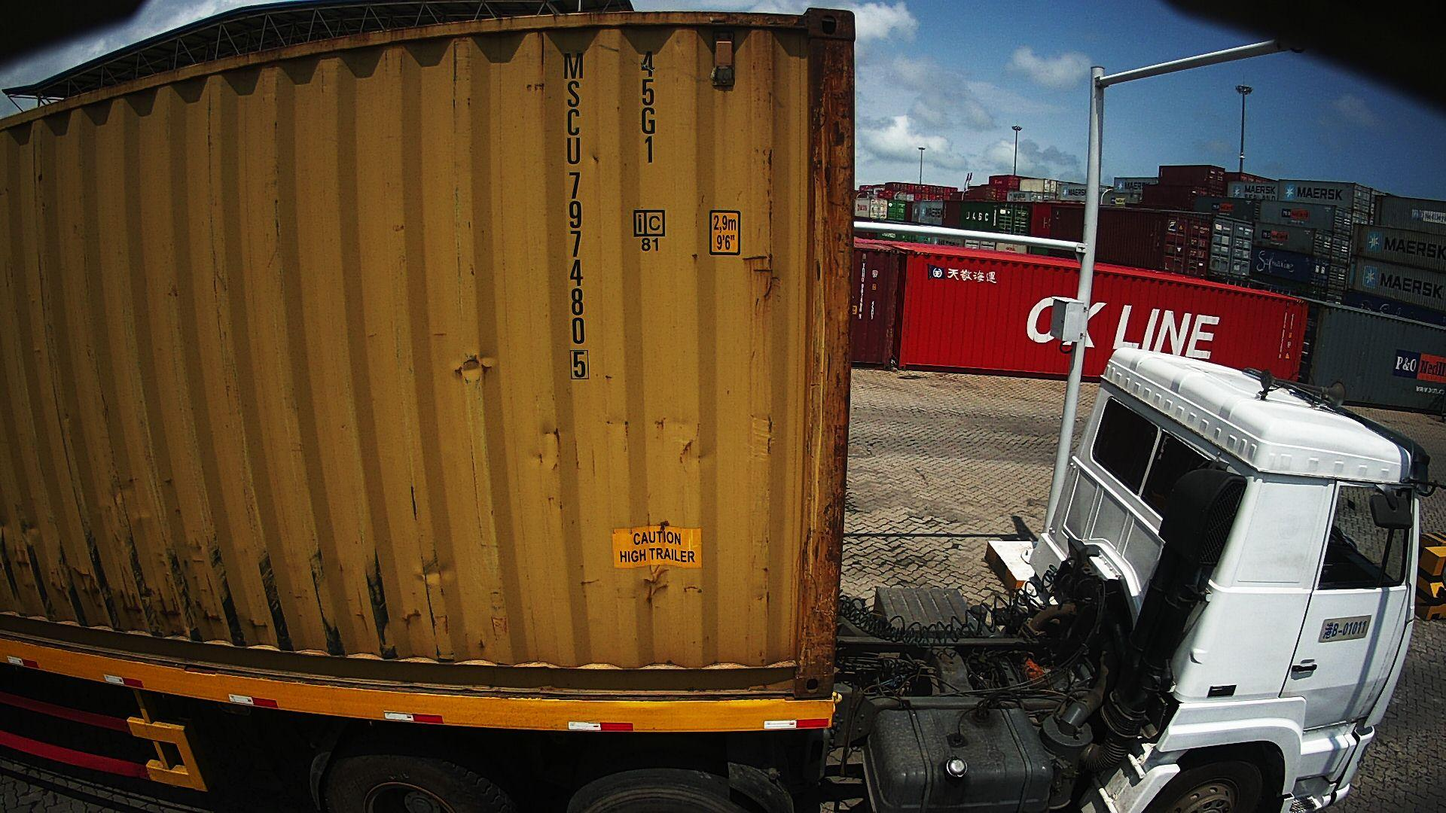container-numbers: (557, 52, 593, 386), (636, 53, 660, 167)
